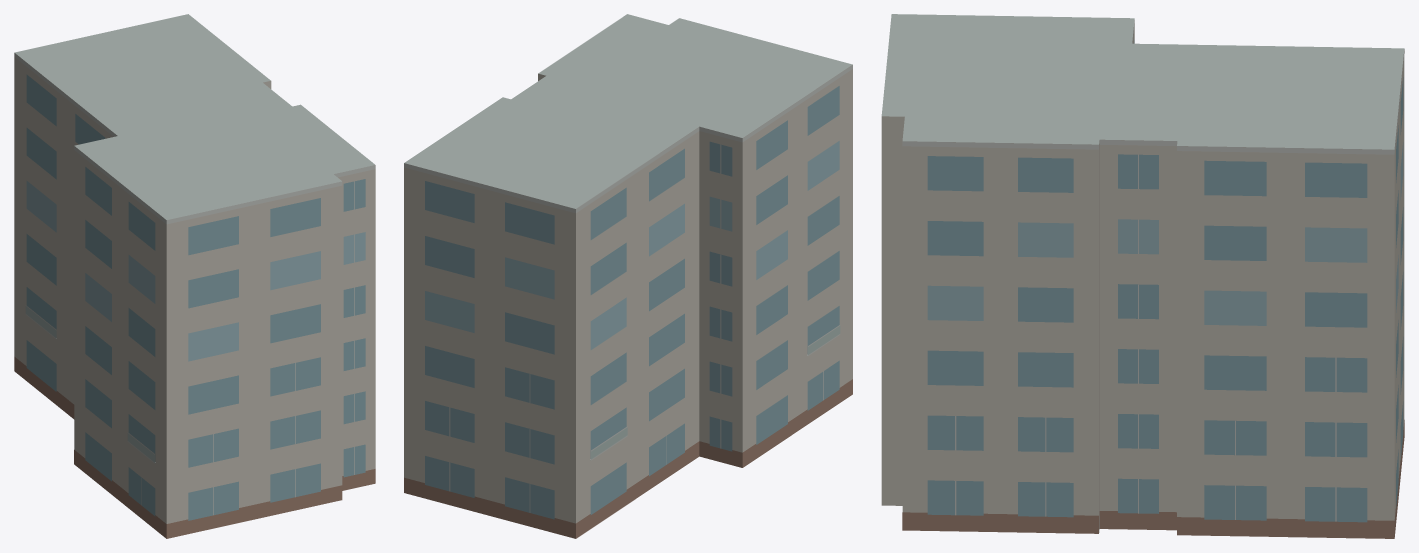
Rendered from survey-upis-32662782.glb.
3 renders of one model, left to right at view 1: azimuth 30°, elevation 25°; view 2: azimuth 150°, elevation 25°; view 3: azimuth 270°, elevation 25°, orthographic. The views are drawn at different scales.
Parts seen in each view (by area): view 1: survey-upis-32662782.tmp; view 2: survey-upis-32662782.tmp; view 3: survey-upis-32662782.tmp.
Boxes of the visible parts, <box> form: survey-upis-32662782.tmp: <box>14,14,375,538</box>; survey-upis-32662782.tmp: <box>404,14,852,538</box>; survey-upis-32662782.tmp: <box>881,14,1404,538</box>.
Size of the model in its own units: 13.84 by 18.5 by 22.53.
